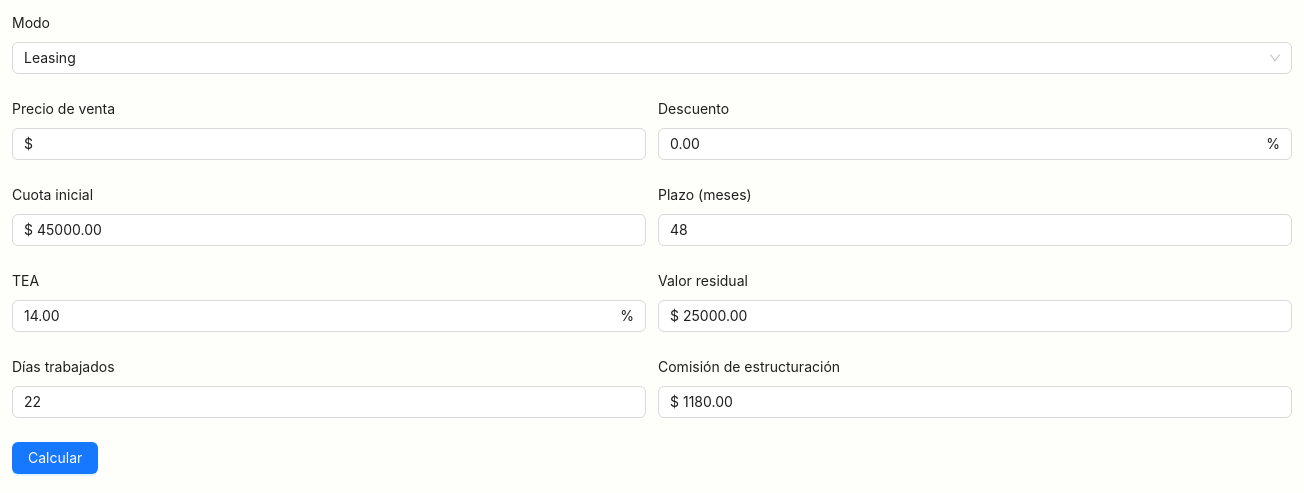
FormularioParametros › avisa cuando la cuota inicial no es menor que el precio con descuento
The width and height of the screenshot is (1304, 493).
Type "10000" into the number field labelled "Precio de venta" at (341, 144), box [37, 129, 645, 159]
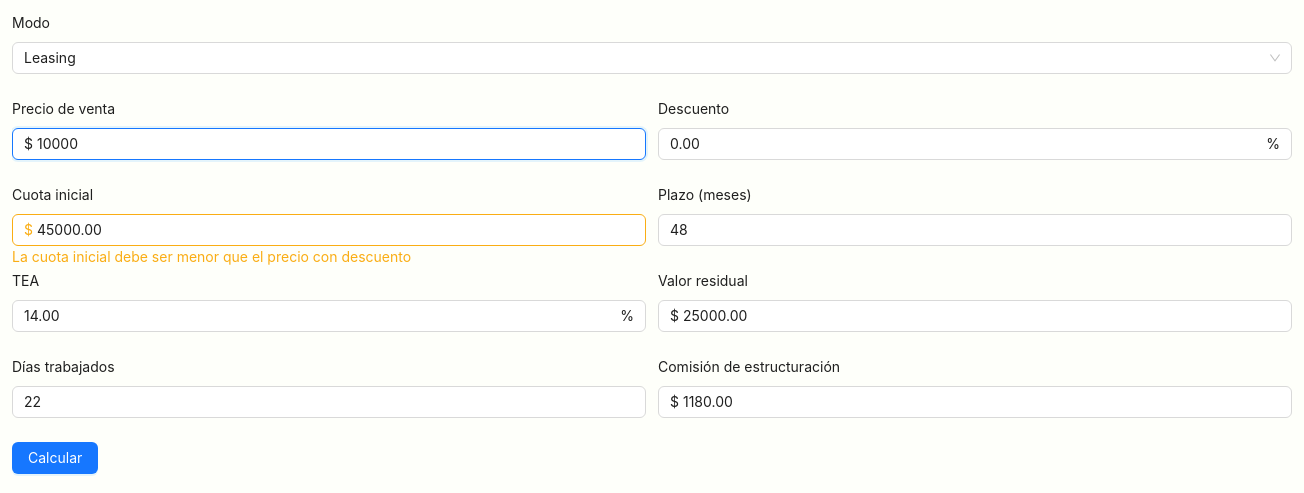
Replace the text in the number field labelled "Cuota inicial" with "10000" at (341, 230), box [37, 215, 645, 245]
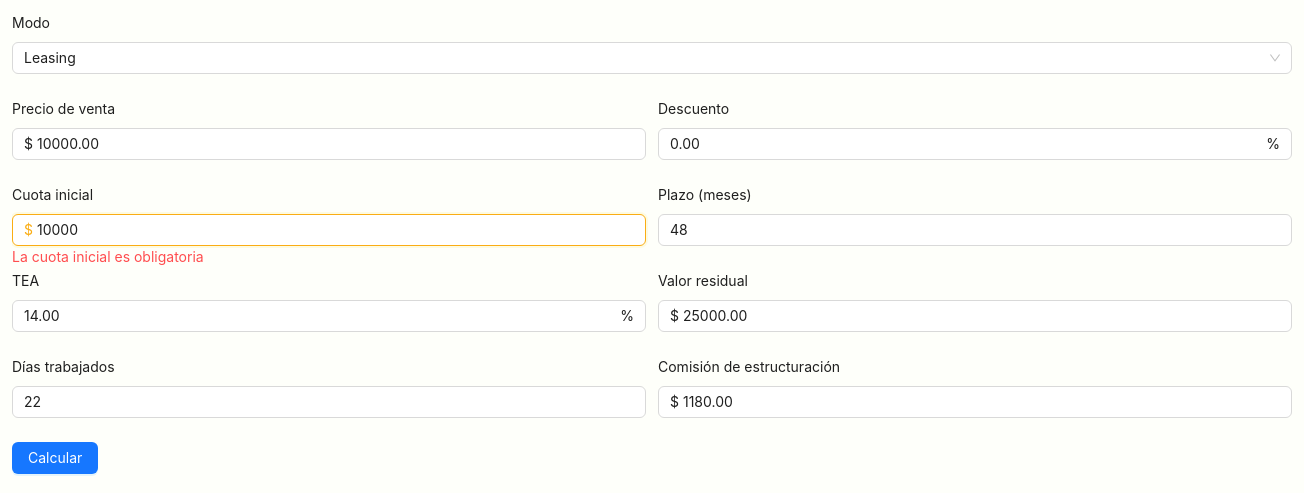
Press Tab
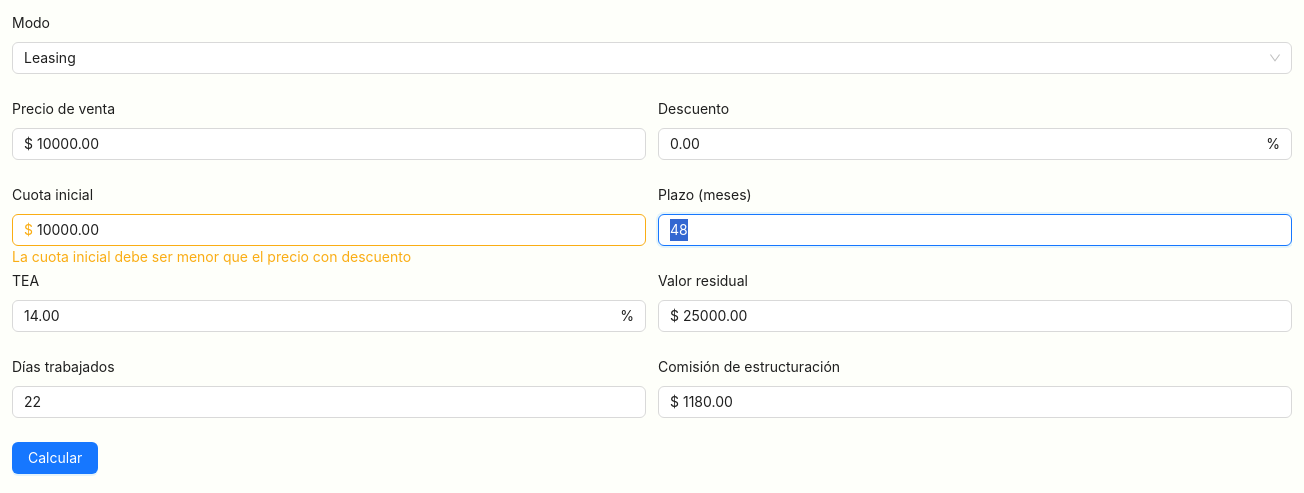
Expected: the text "La cuota inicial debe ser menor que el precio con descuento" is shown, [12, 248, 411, 265]
